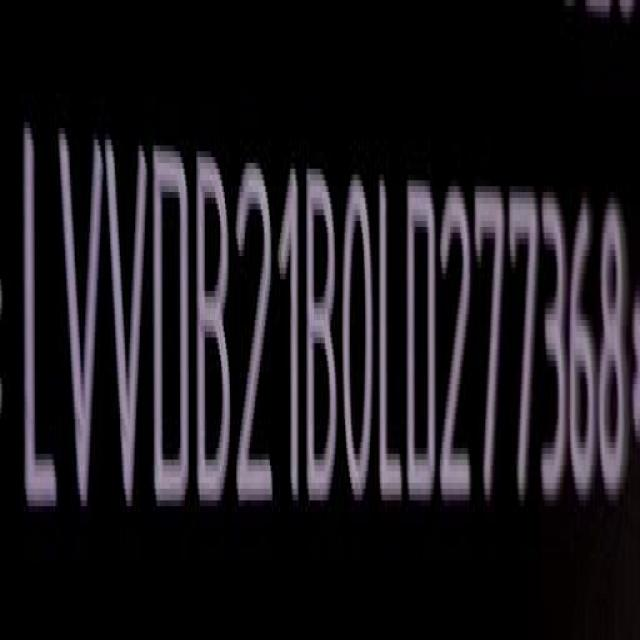0: (340, 172, 374, 511)
1: (280, 161, 300, 519)
2: (235, 160, 276, 524), (441, 179, 477, 516)
3: (541, 191, 571, 510)
6: (566, 196, 597, 502)
7: (476, 178, 506, 518), (511, 180, 541, 514)
8: (599, 196, 628, 508)
B: (198, 150, 236, 520), (304, 171, 340, 514)
D: (153, 139, 194, 517), (407, 176, 439, 515)
L: (18, 121, 59, 522), (378, 168, 403, 504)
V: (58, 126, 106, 517), (108, 127, 153, 520)
